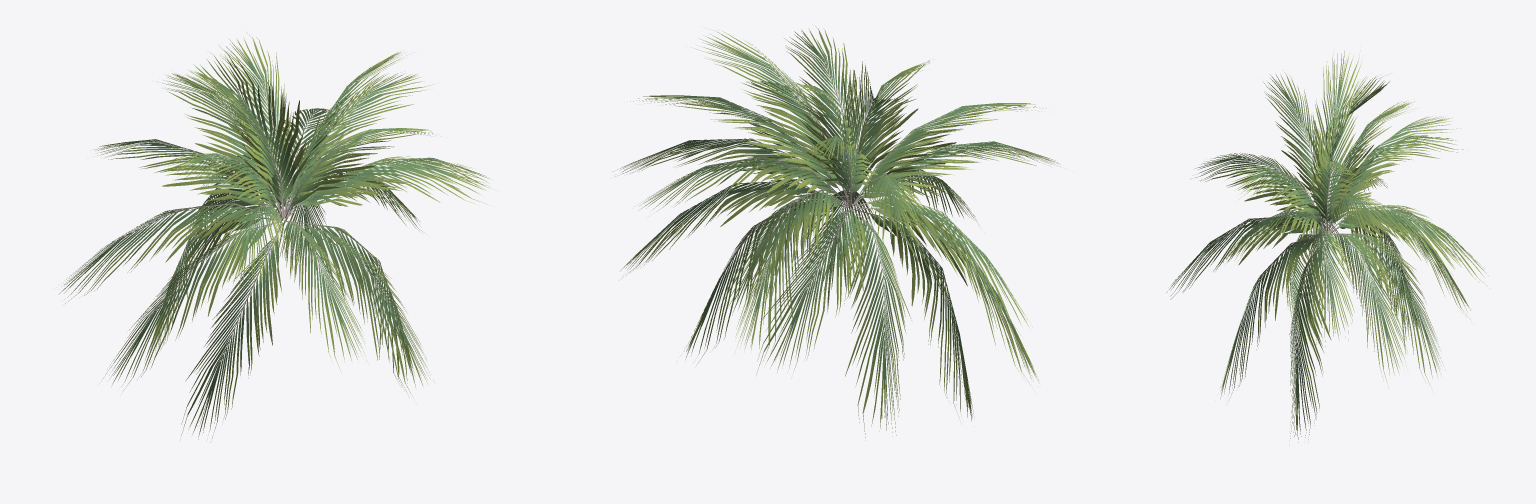
Rendered from m_palm_p2_11_leaf_0.001_lev2.glb.
The picture shows the model from 3 angles, left to right: view 1: azimuth 30°, elevation 25°; view 2: azimuth 150°, elevation 25°; view 3: azimuth 270°, elevation 25°; orthographic projection. The views are drawn at different scales.
Parts seen in each view (by area): view 1: m_palm_p2_11_leaf_0.001_lev2; view 2: m_palm_p2_11_leaf_0.001_lev2; view 3: m_palm_p2_11_leaf_0.001_lev2.
Part boxes in pixels (bbox=[...]): m_palm_p2_11_leaf_0.001_lev2: bbox=[58, 32, 489, 442]; m_palm_p2_11_leaf_0.001_lev2: bbox=[615, 26, 1060, 440]; m_palm_p2_11_leaf_0.001_lev2: bbox=[1166, 47, 1489, 442].
Size of the model in its own units: 4.13 by 3.34 by 3.14.
Materials: 1 (1 with a texture image).
